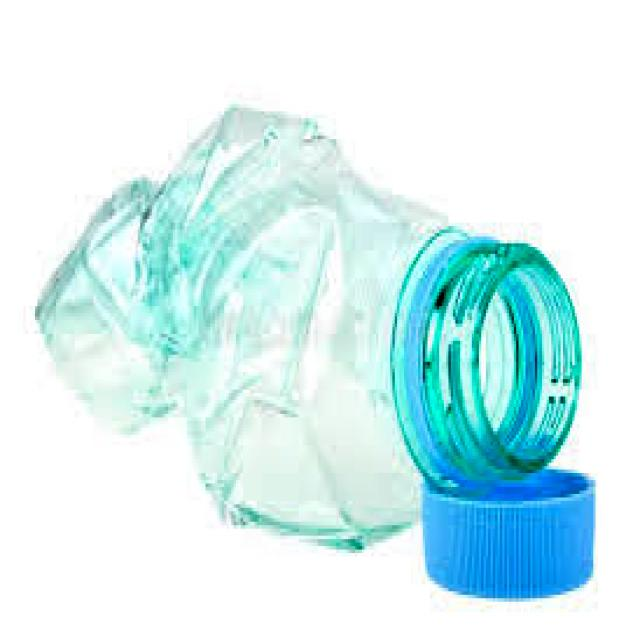Plastic: (27, 102, 588, 561), (420, 468, 598, 602)
